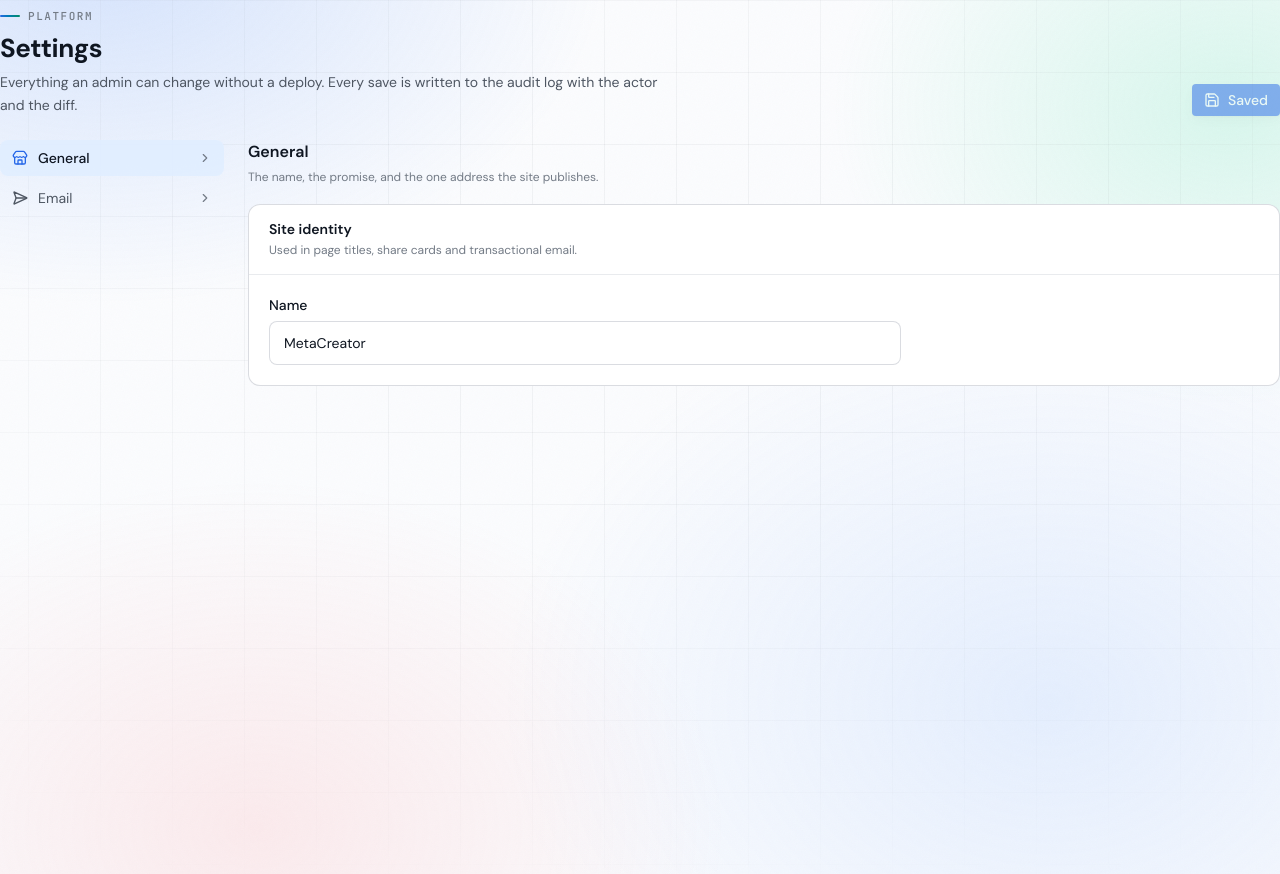
settings screen — Email › sends a test to the signed-in admin when no address is given
Click the button "Email" at (112, 198), box [0,180,224,216]
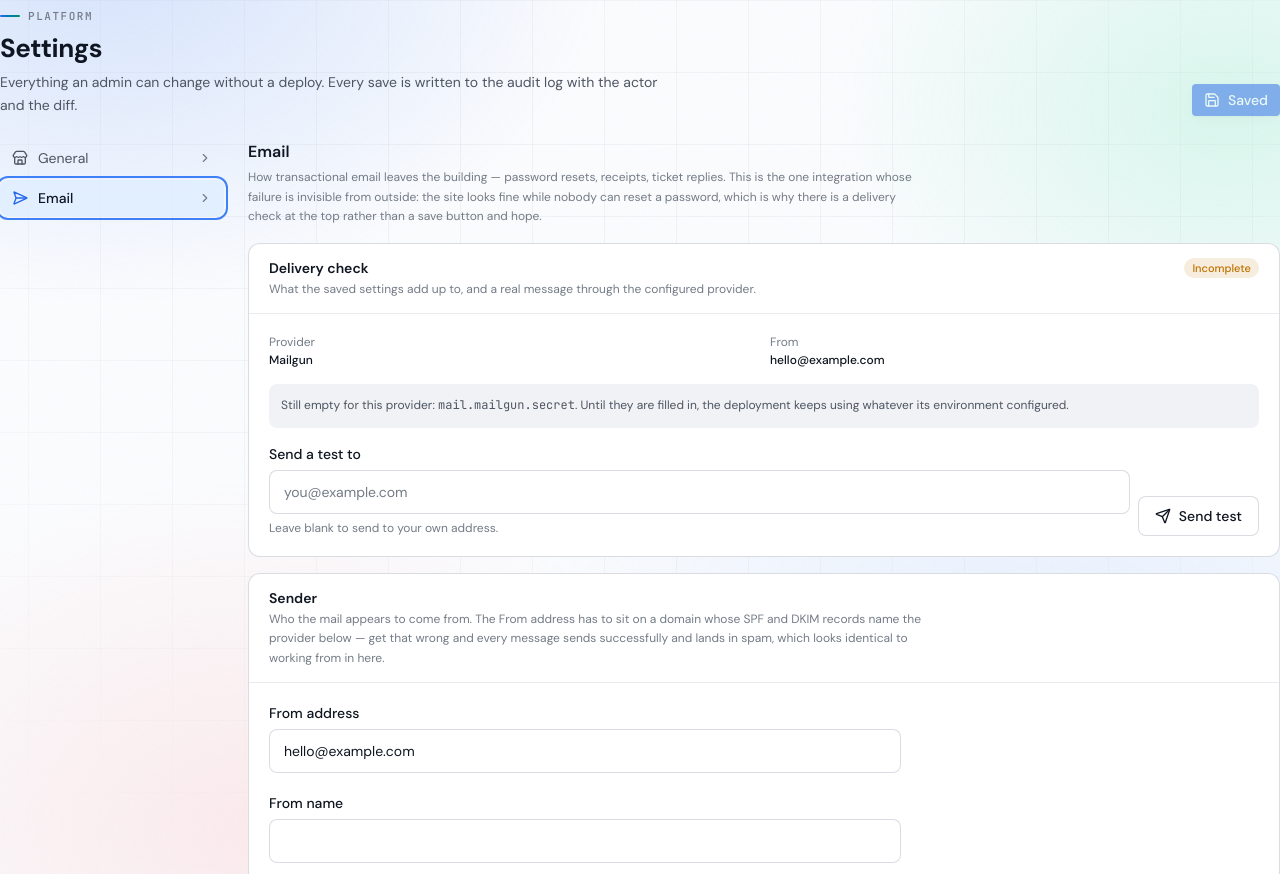
Click the button "Send test" at (1198, 516), box [1138,496,1259,536]
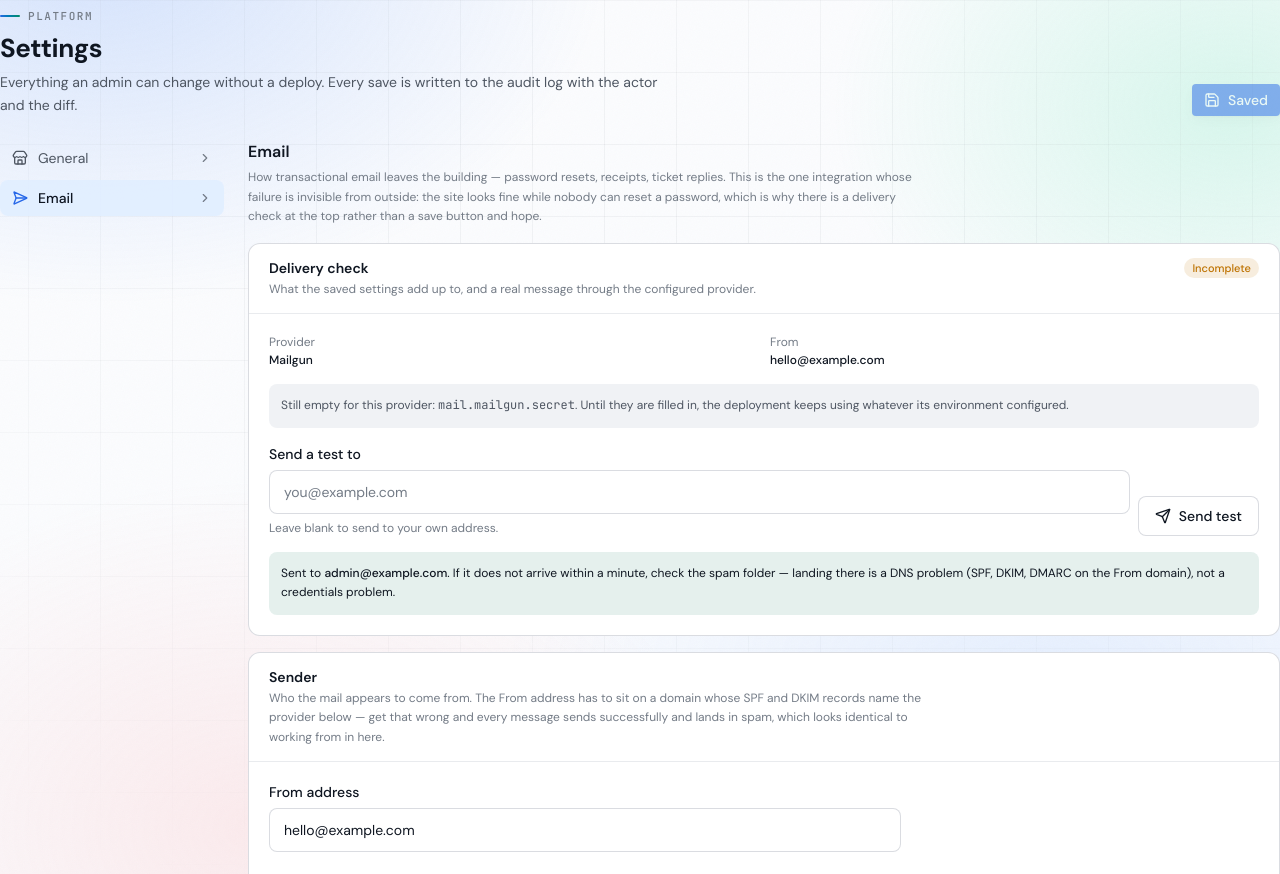
expect the text "admin@example.com" is shown: met, box [324,565,447,581]
